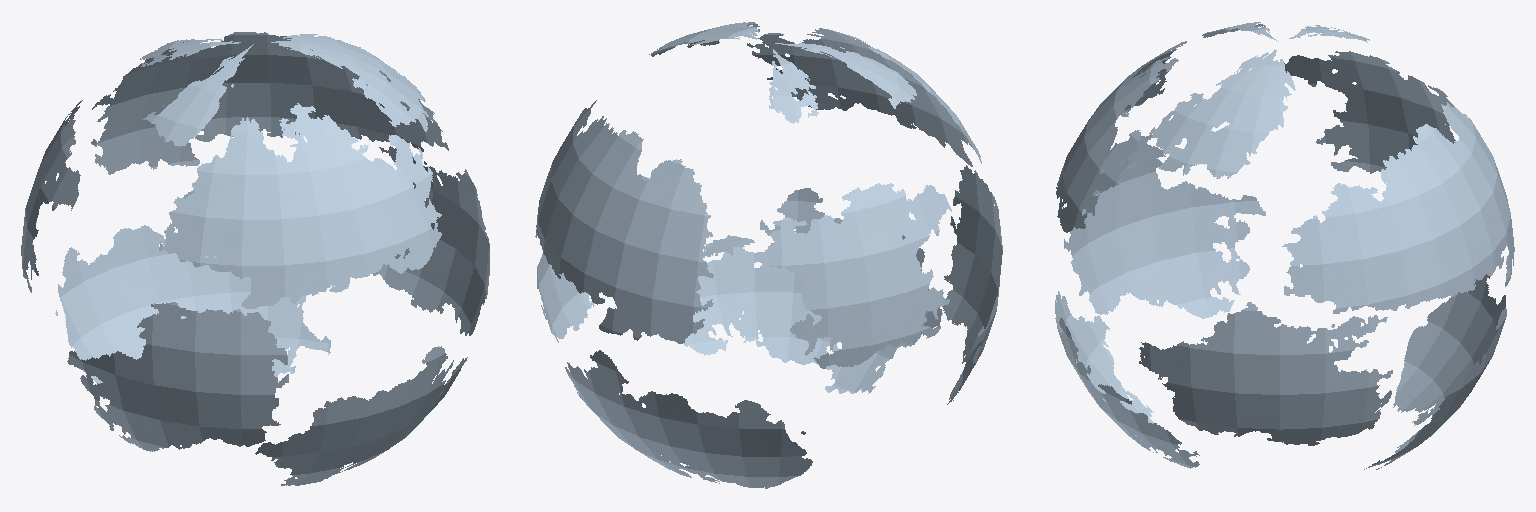
The picture shows the model from 3 angles: view 1: azimuth 30°, elevation 25°; view 2: azimuth 150°, elevation 25°; view 3: azimuth 270°, elevation 25°; orthographic projection.
Visible parts, largest first — view 1: 球.001; view 2: 球.001; view 3: 球.001.
Boxes of the visible parts, <box> form: 球.001: <box>21,32,489,485</box>; 球.001: <box>535,22,1002,488</box>; 球.001: <box>1055,22,1514,469</box>.
Bounding box in the file's own units: 900 × 900 × 900.
1 materials, 1 textured.